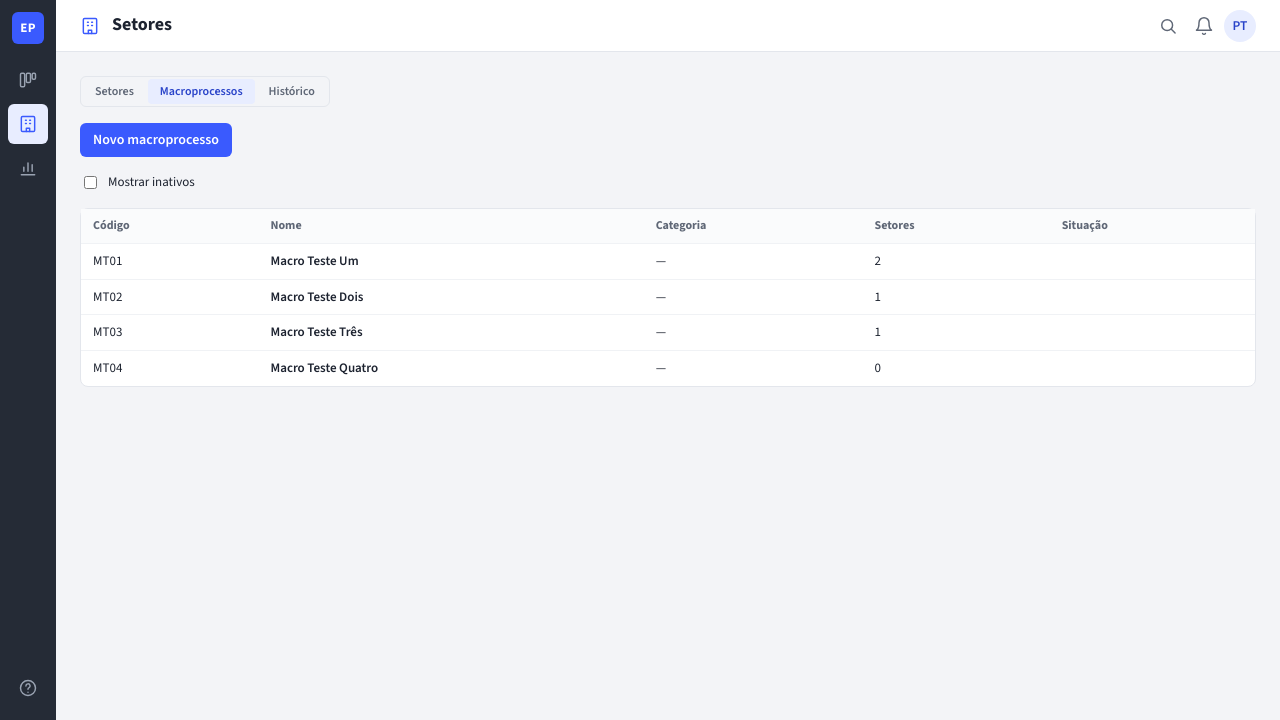
a janela de exclusão do macroprocesso diz quantos setores deixam de estar envolvidos
What coordinates should you click on to do the following:
click the cell "Macro Teste Um"
I would click on:
 (451, 262)
Its box is [258,244,644,280].
(page scrolled)
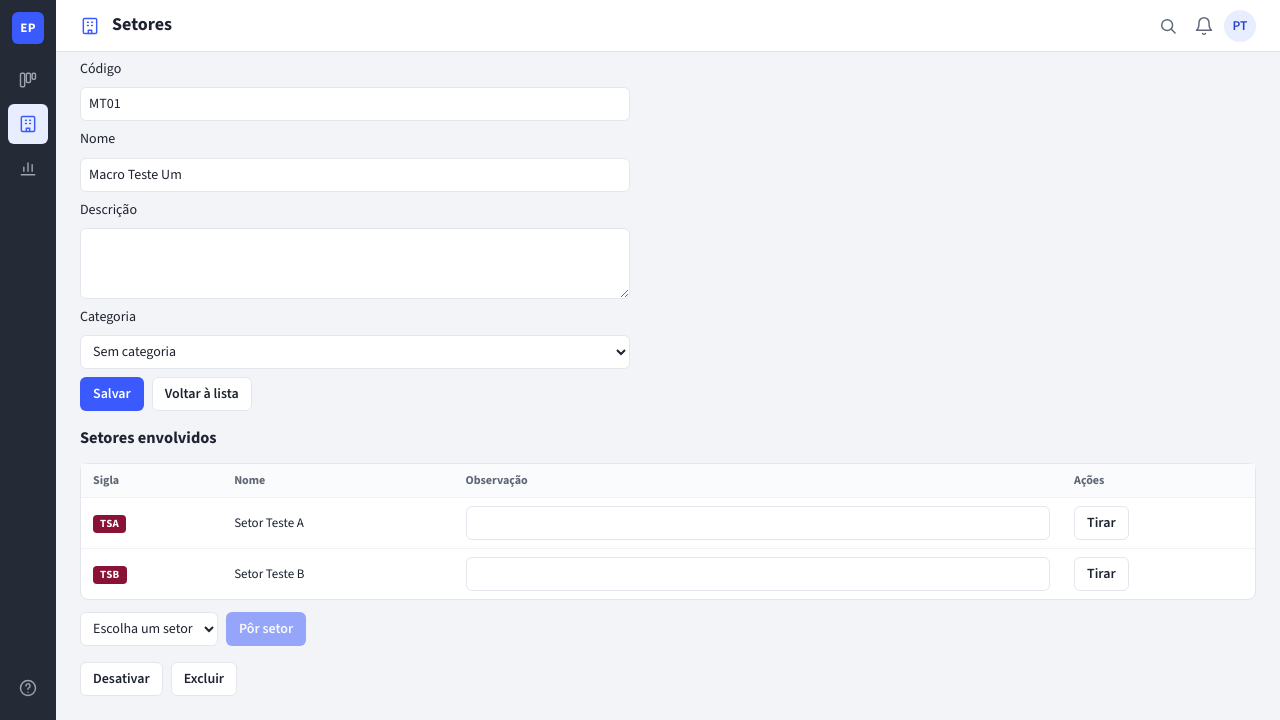
What coordinates should you click on to do the following:
click the button "Excluir"
I would click on:
 (204, 679)
Its box is [171,662,237,696].
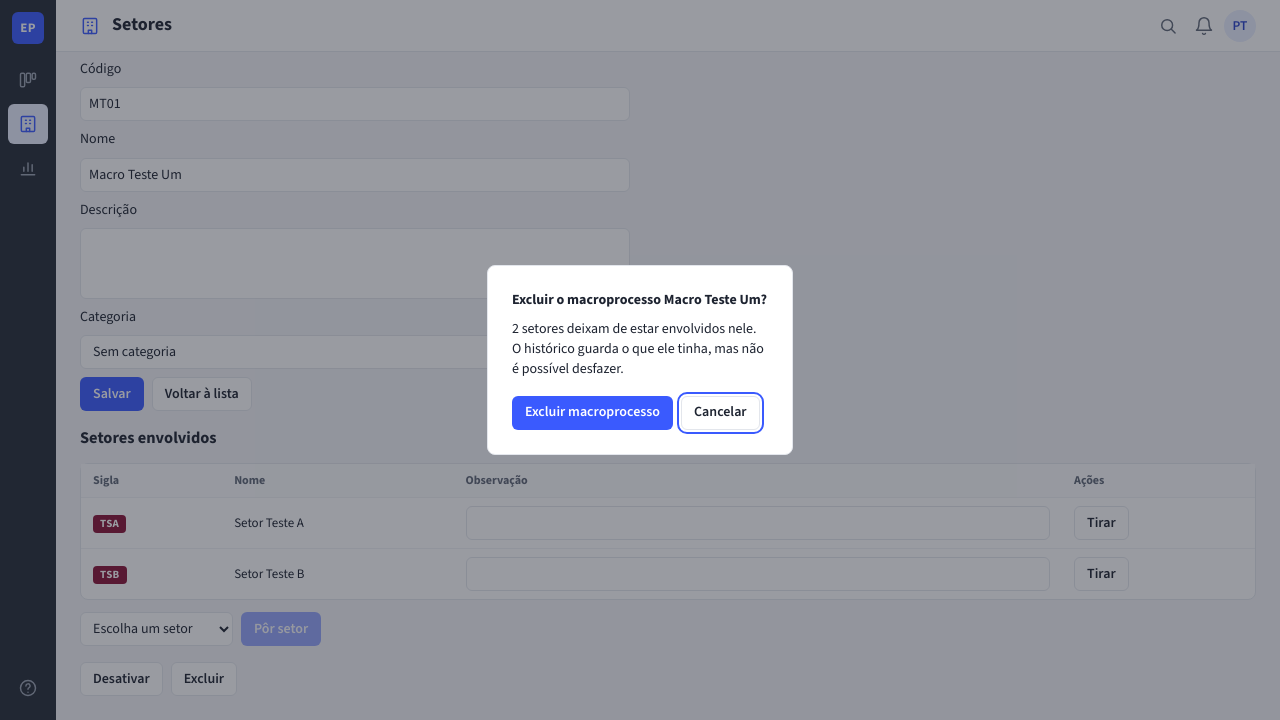
expect the dialog "Excluir o macroprocesso Macro Teste Um?" is shown: met, box [487,265,793,455]
